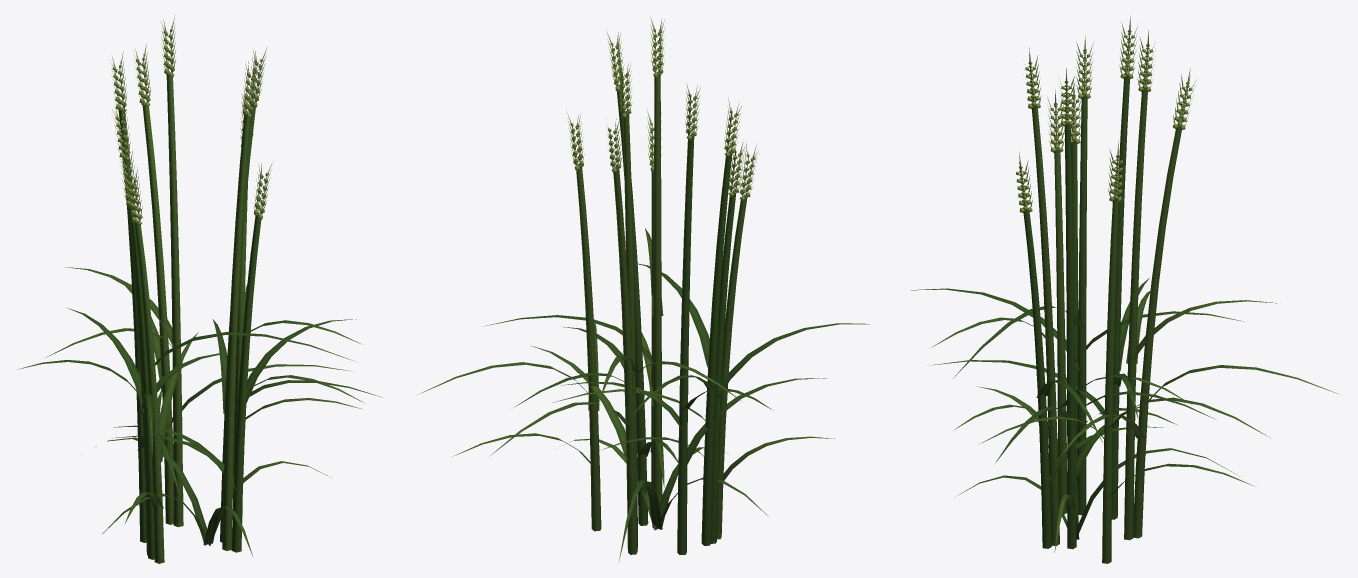
File: WheatGrowth.fbx
The picture shows the model from 3 angles, left to right: view 1: azimuth 30°, elevation 25°; view 2: azimuth 150°, elevation 25°; view 3: azimuth 270°, elevation 25°; orthographic projection.
Visible parts, largest first — view 1: WheatGrowth_LOD0; view 2: WheatGrowth_LOD0; view 3: WheatGrowth_LOD0.
Part boxes in pixels (bbox=[...]): WheatGrowth_LOD0: bbox=[17, 15, 381, 563]; WheatGrowth_LOD0: bbox=[421, 16, 869, 562]; WheatGrowth_LOD0: bbox=[911, 15, 1337, 563].
Size of what is drawn, in the model's own units: 0.3583 by 0.5356 by 0.4198.
